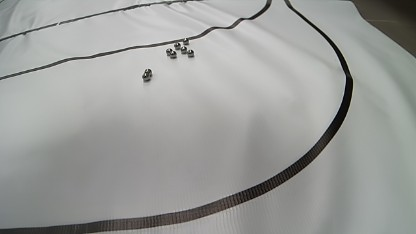ironball: (142, 72, 150, 81), (144, 68, 152, 77), (186, 49, 194, 57), (169, 50, 177, 58), (180, 46, 187, 54), (174, 42, 181, 50), (182, 38, 189, 45), (166, 48, 172, 55), (182, 0, 187, 2)
